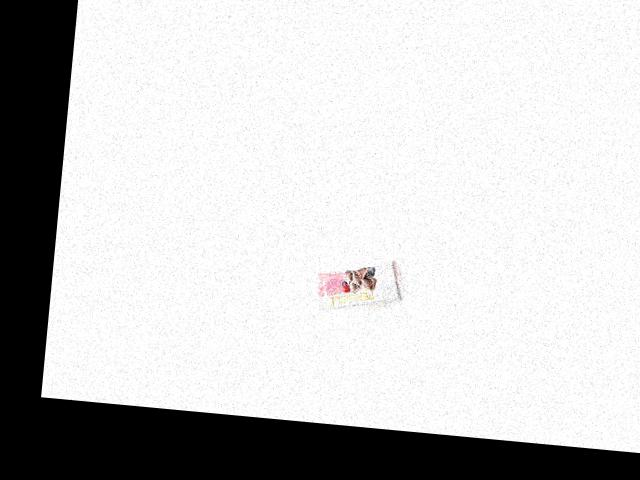chocolate: (315, 251, 403, 319)
